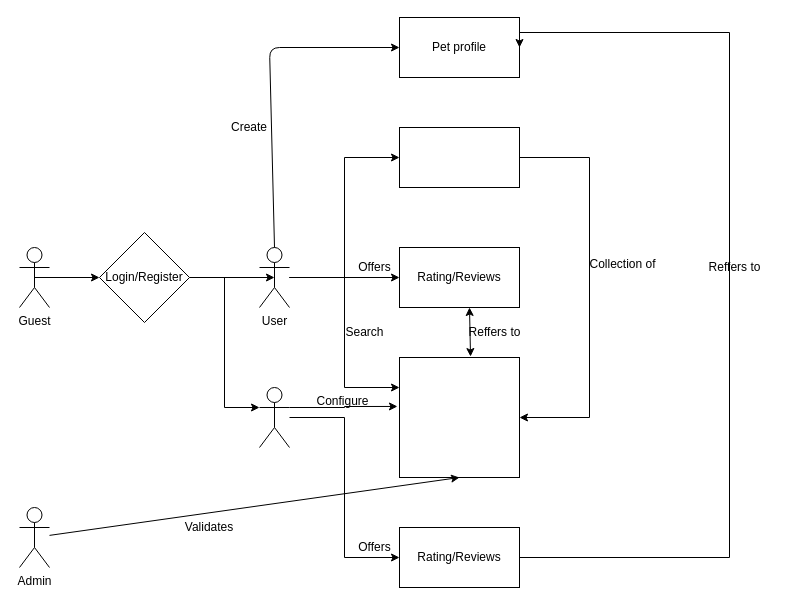
This 786x606 diagram has some shape labels left out. The shapes that lost their labels are listed below. From the top down, each one's centre as x and y in pixels, then its label:
At [459,157]: "History".
At [274,417]: "Host".
At [459,417]: "Profile number of rooms facilities pets that are allowed prices".
